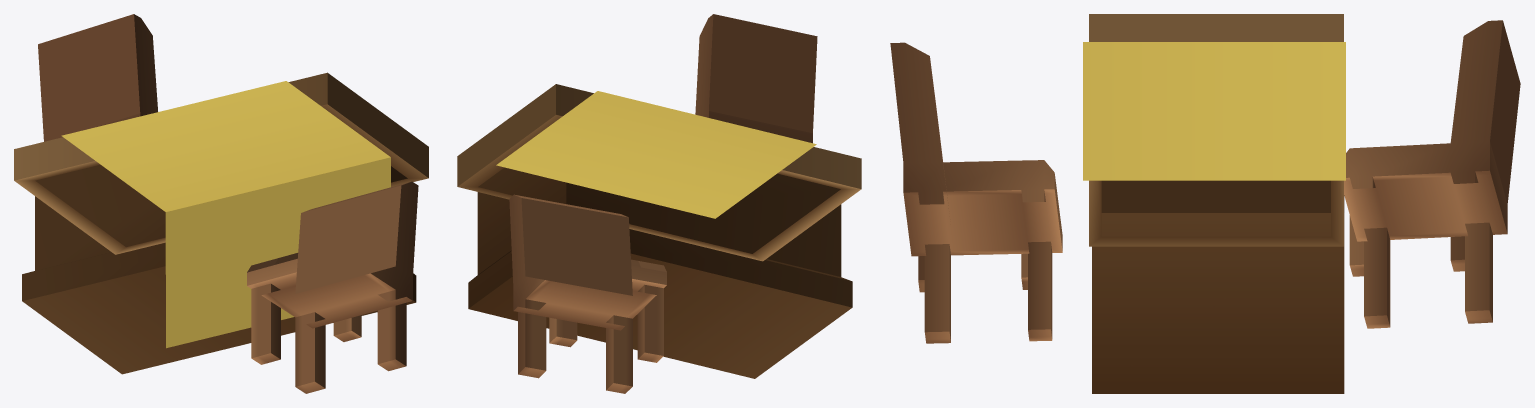
The model's file is meja_guild_c.glb.
3 renders of one model, left to right at view 1: azimuth 30°, elevation 25°; view 2: azimuth 150°, elevation 25°; view 3: azimuth 270°, elevation 25°, orthographic. The views are drawn at different scales.
Parts seen in each view (by area): view 1: Plane017; view 2: Plane017; view 3: Plane017.
Boxes of the visible parts, x1,y1,x2,y2 form: Plane017: [14, 14, 428, 393]; Plane017: [457, 14, 861, 393]; Plane017: [890, 14, 1520, 393].
Bounding box in the file's own units: 0.9083 × 0.5302 × 1.26.
Materials: 1 (1 with a texture image).
